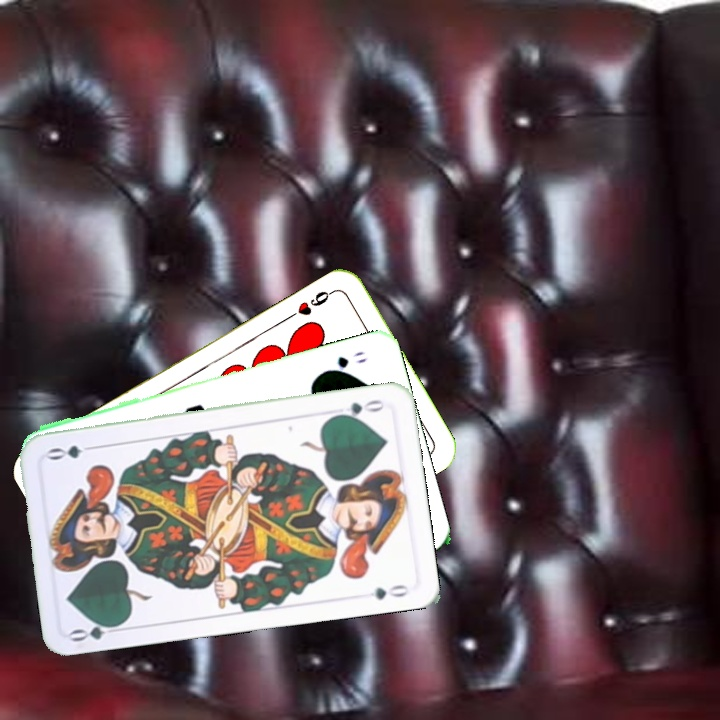GO: (67, 617, 126, 645), (318, 347, 370, 376), (330, 395, 387, 421)
H9: (284, 285, 338, 321)
